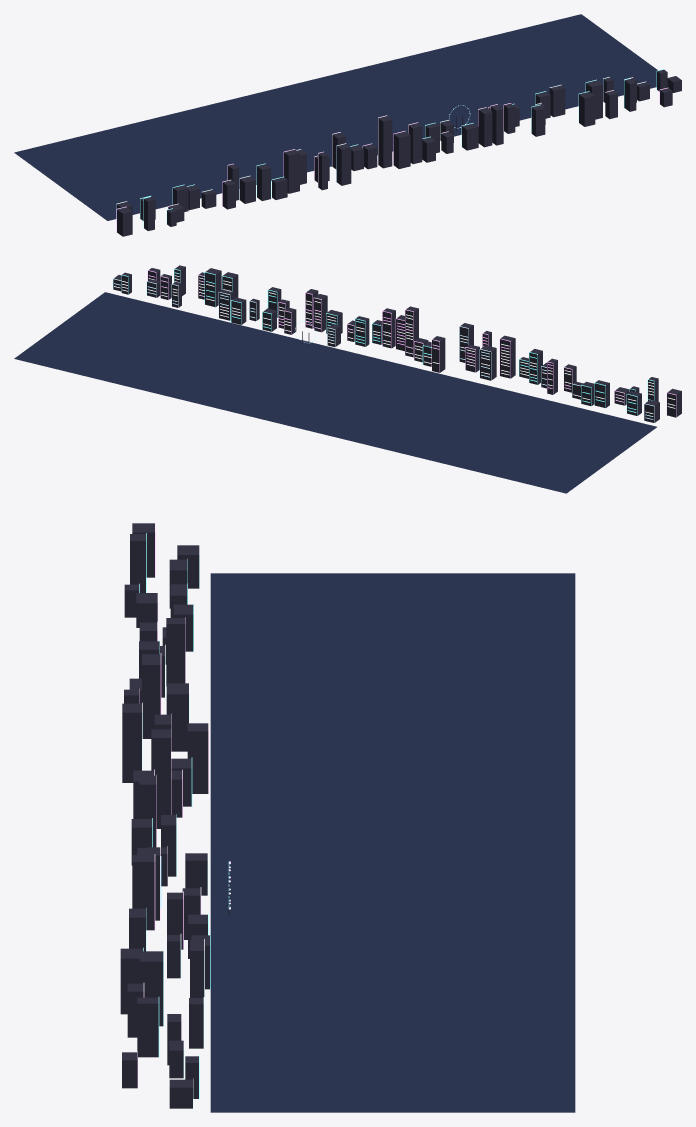
Rendered from SM_Zoo_Skyline.glb.
The picture shows the model from 3 angles, top to bottom: view 1: azimuth 30°, elevation 25°; view 2: azimuth 150°, elevation 25°; view 3: azimuth 270°, elevation 25°; orthographic projection. The views are drawn at different scales.
Visible parts, largest first — view 1: SM_Zoo_Skyline; view 2: SM_Zoo_Skyline; view 3: SM_Zoo_Skyline.
Part boxes in pixels (x1,y1,x2,y2): SM_Zoo_Skyline: (14, 14, 681, 236); SM_Zoo_Skyline: (14, 265, 681, 493); SM_Zoo_Skyline: (120, 522, 575, 1112).
Bounding box in the file's own units: 1412 × 112 × 499.
